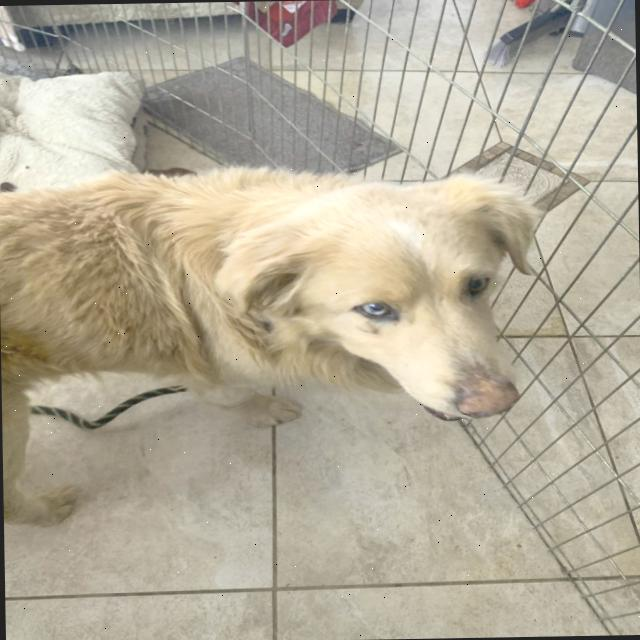golden_retriever_dog: (194, 166, 566, 436)
